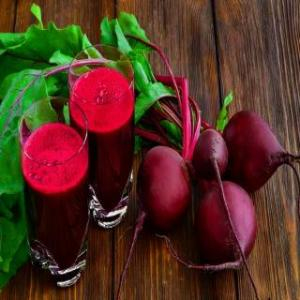beet: (194, 180, 258, 270), (226, 110, 286, 192), (136, 145, 188, 231), (197, 122, 225, 184)
